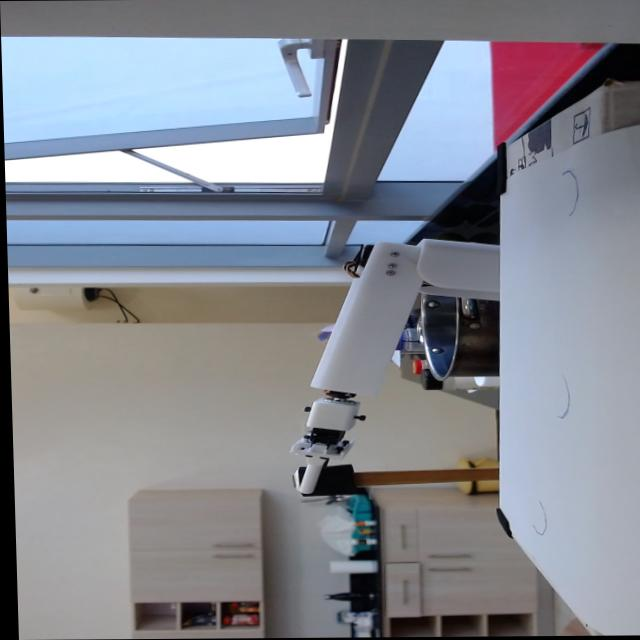cooking_pot: (384, 287, 498, 377)
spatula: (298, 462, 506, 495)
